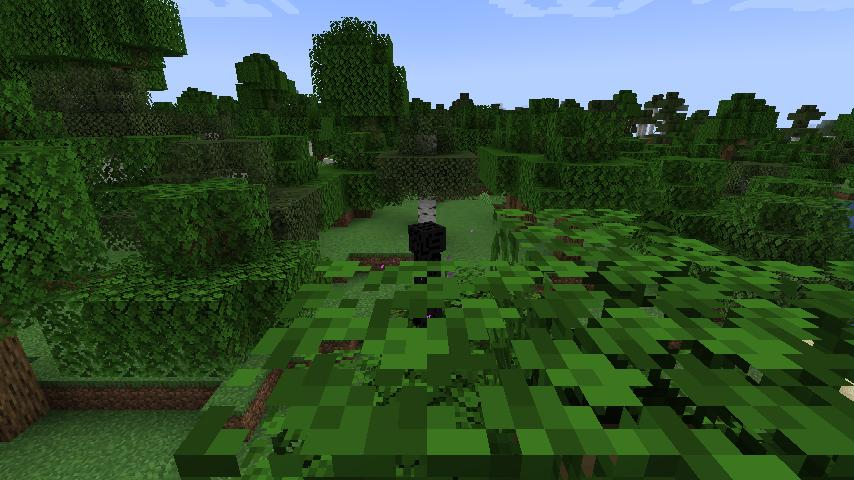enderman: (407, 219, 448, 326)
